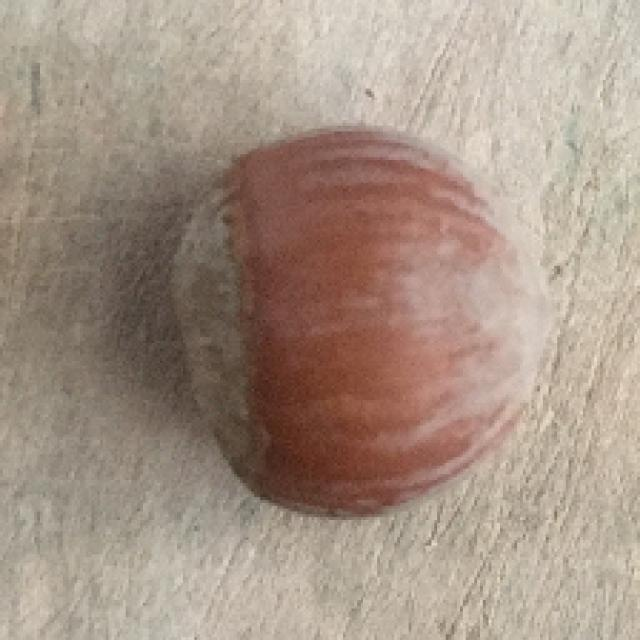qualityHazelnut: (172, 122, 550, 523)
